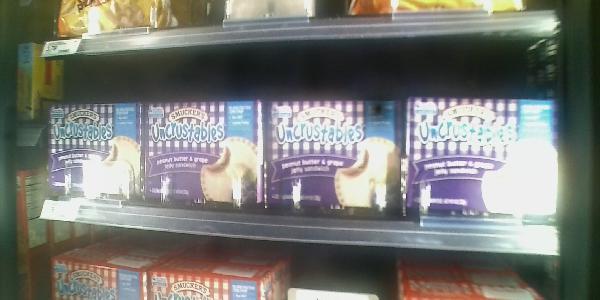icecream: (407, 93, 568, 223), (266, 95, 403, 218), (144, 96, 265, 213), (37, 93, 142, 205)
